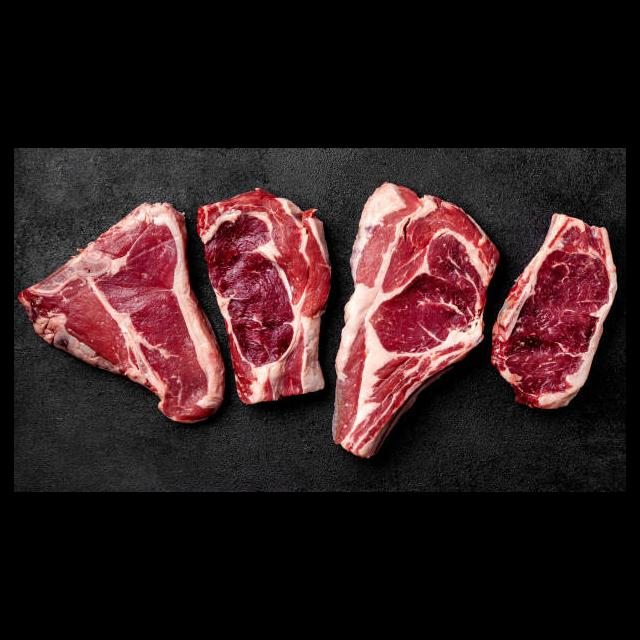beef: (331, 181, 501, 459), (17, 200, 226, 422), (196, 187, 333, 408), (491, 211, 618, 411)
